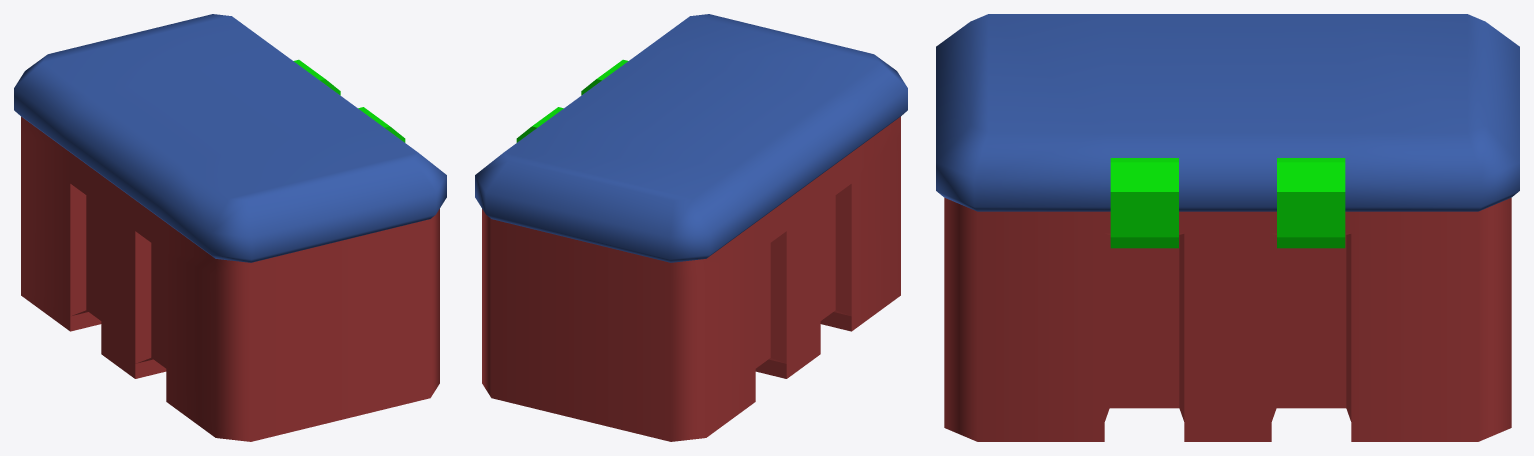
3 views of the same model, side by side, from view 1: azimuth 30°, elevation 25°; view 2: azimuth 150°, elevation 25°; view 3: azimuth 270°, elevation 25° (orthographic). The views are drawn at different scales.
Parts seen in each view (by area): view 1: SM_Box_01; view 2: SM_Box_01; view 3: SM_Box_01.
Part boxes in pixels (box(x1,y1,x2,y2)): SM_Box_01: box(14, 14, 446, 441); SM_Box_01: box(475, 14, 907, 441); SM_Box_01: box(936, 14, 1519, 441).
Size of the model in its own units: 121 by 108 by 192.
